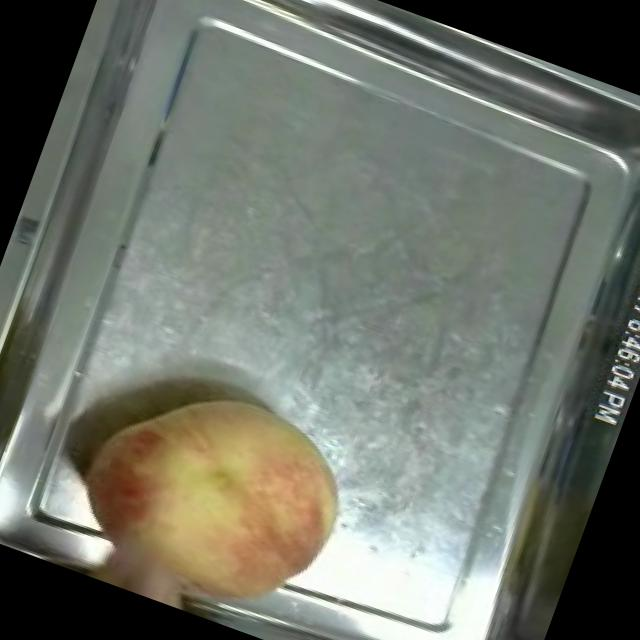Fruit: (40, 342, 378, 640)
